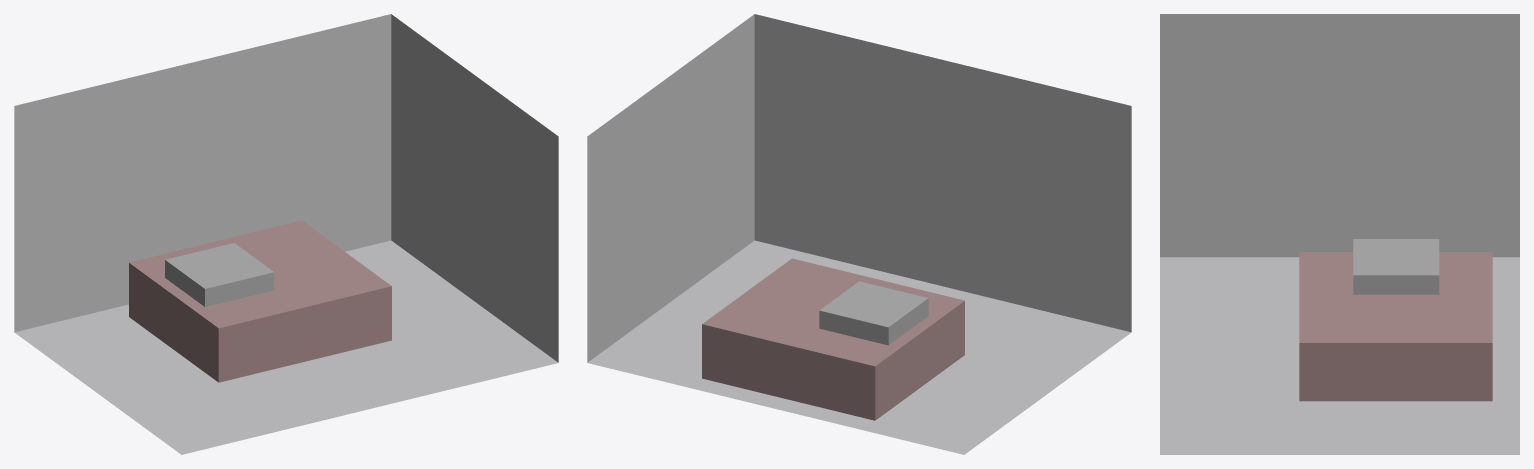
File: optimised_layout.glb
3 renders of one model, left to right at view 1: azimuth 30°, elevation 25°; view 2: azimuth 150°, elevation 25°; view 3: azimuth 270°, elevation 25°, orthographic. The views are drawn at different scales.
Parts seen in each view (by area): view 1: room, bed, wardrobe; view 2: room, bed, wardrobe; view 3: room, bed, wardrobe.
Part boxes in pixels (x1,y1,x2,y2): room: (14,14,558,454); bed: (129,220,391,382); wardrobe: (165,243,274,306); room: (587,14,1131,454); bed: (702,258,964,420); wardrobe: (819,281,928,345); room: (1160,14,1519,454); bed: (1299,252,1492,401); wardrobe: (1353,239,1439,294).
Size of the model in its own units: 4.36 by 2.5 by 3.35.
